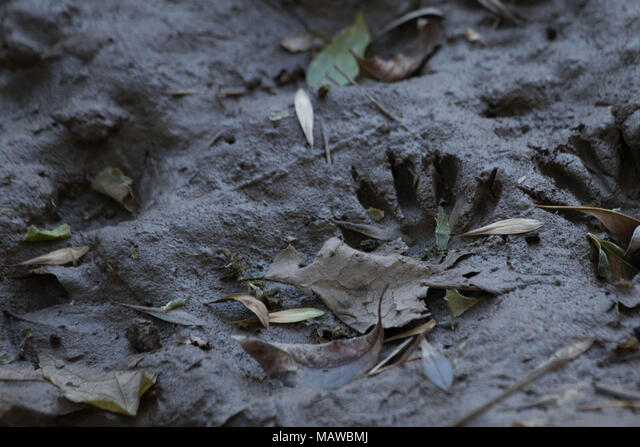raccoon: (323, 135, 524, 299)
